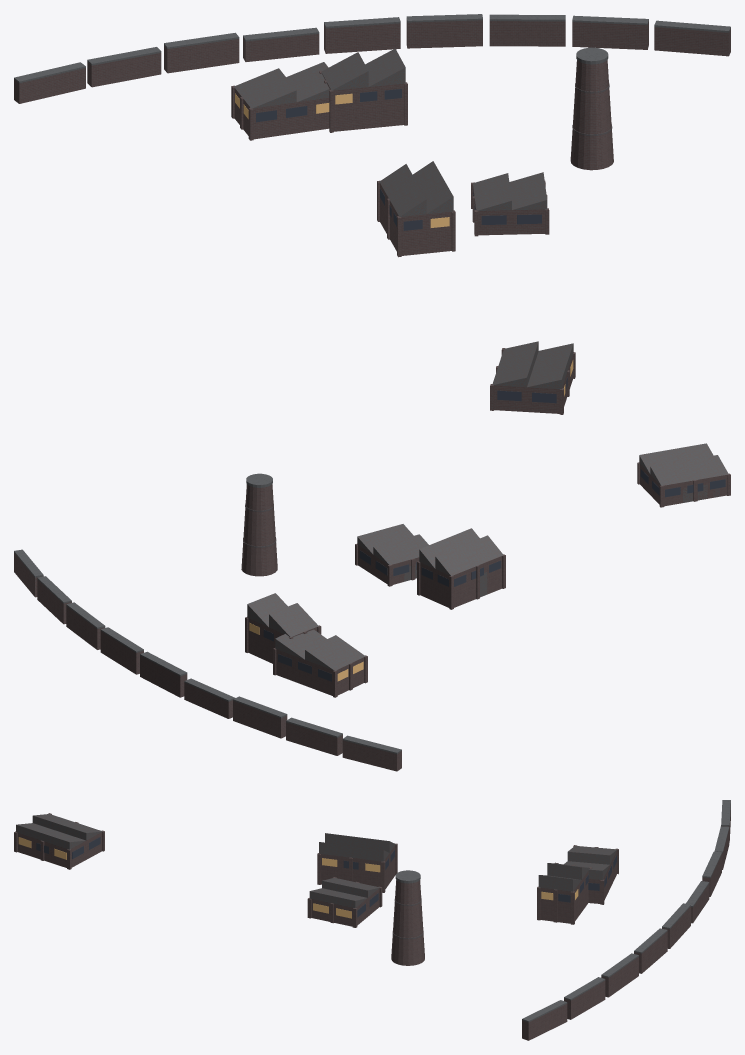
File: SM_City_BaytAlDarb_1.fbx
3 views of the same model, one above another, from view 1: azimuth 30°, elevation 25°; view 2: azimuth 150°, elevation 25°; view 3: azimuth 270°, elevation 25° (orthographic). The views are drawn at different scales.
Parts seen in each view (by area): view 1: SM_City_BaytAlDarb_1; view 2: SM_City_BaytAlDarb_1; view 3: SM_City_BaytAlDarb_1.
Part boxes in pixels (x1,y1,x2,y2): SM_City_BaytAlDarb_1: [14, 14, 730, 414]; SM_City_BaytAlDarb_1: [14, 443, 730, 771]; SM_City_BaytAlDarb_1: [14, 800, 730, 1040].
Bounding box in the file's own units: 7392 × 1283 × 10028.
Materials: 6 (6 with a texture image).
